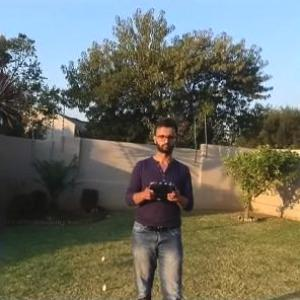follow: (125, 104, 202, 299)
